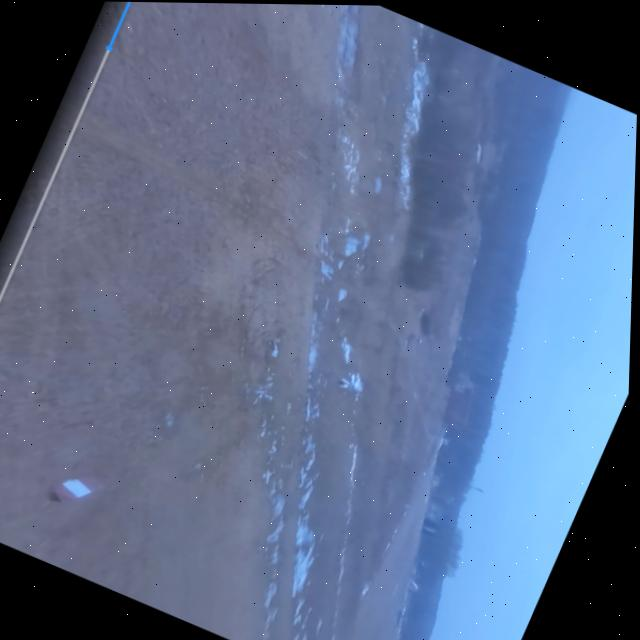planedrone: (410, 330, 425, 350)
